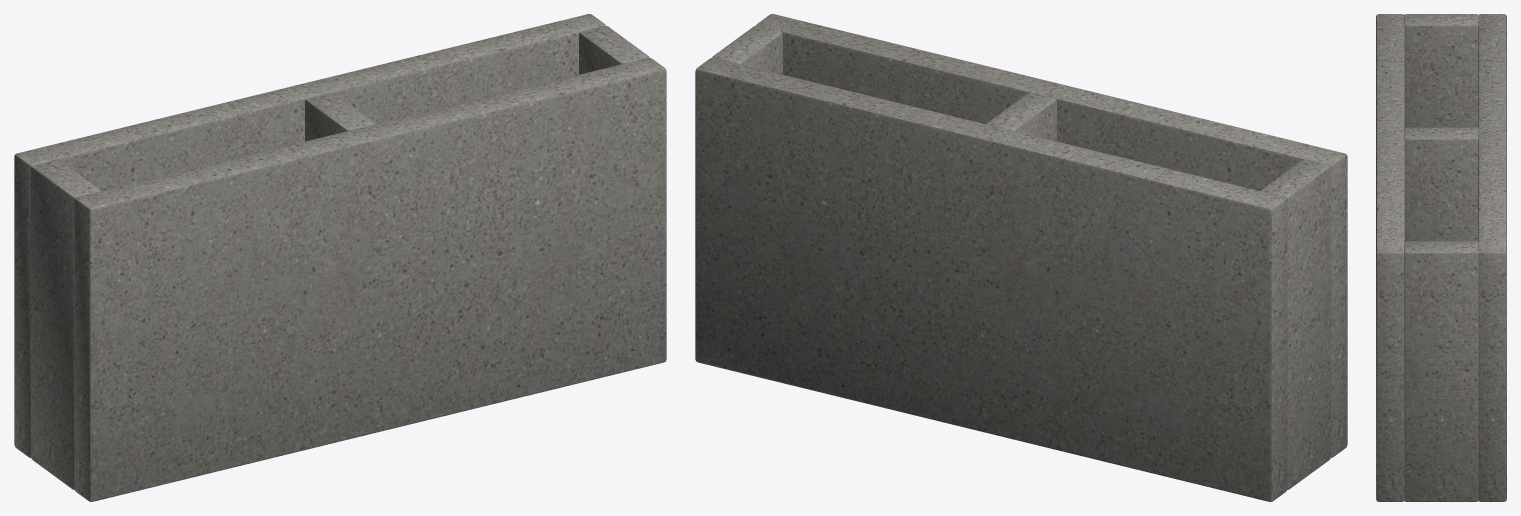
The model's file is ALV-BCO-006.glb.
The picture shows the model from 3 angles, left to right: view 1: azimuth 30°, elevation 25°; view 2: azimuth 150°, elevation 25°; view 3: azimuth 270°, elevation 25°; orthographic projection. The views are drawn at different scales.
Parts seen in each view (by area): view 1: ALV-BCO-006_pf1, ALV-BCO-006_pf2, ALV-BCO-006_t0, ALV-BCO-006_t2, ALV-BCO-006_t1; view 2: ALV-BCO-006_pf2, ALV-BCO-006_pf1, ALV-BCO-006_t0, ALV-BCO-006_t2, ALV-BCO-006_t1; view 3: ALV-BCO-006_t2, ALV-BCO-006_pf1, ALV-BCO-006_pf2, ALV-BCO-006_t1, ALV-BCO-006_t0.
Boxes of the visible parts, box(x1,y1,x2,y2) form: ALV-BCO-006_pf1: box(74, 58, 666, 501); ALV-BCO-006_pf2: box(14, 14, 605, 457); ALV-BCO-006_t0: box(30, 159, 100, 489); ALV-BCO-006_t2: box(579, 26, 649, 74); ALV-BCO-006_t1: box(305, 92, 374, 141); ALV-BCO-006_pf2: box(695, 58, 1287, 501); ALV-BCO-006_pf1: box(756, 14, 1347, 457); ALV-BCO-006_t0: box(1261, 159, 1331, 489); ALV-BCO-006_t2: box(712, 26, 782, 74); ALV-BCO-006_t1: box(987, 92, 1056, 141); ALV-BCO-006_t2: box(1404, 241, 1478, 501); ALV-BCO-006_pf1: box(1376, 14, 1404, 501); ALV-BCO-006_pf2: box(1478, 14, 1506, 501); ALV-BCO-006_t1: box(1404, 127, 1478, 241); ALV-BCO-006_t0: box(1404, 14, 1478, 127).
Size of the model in its own units: 0.39 by 0.19 by 0.09.
1 material, 1 textured.
